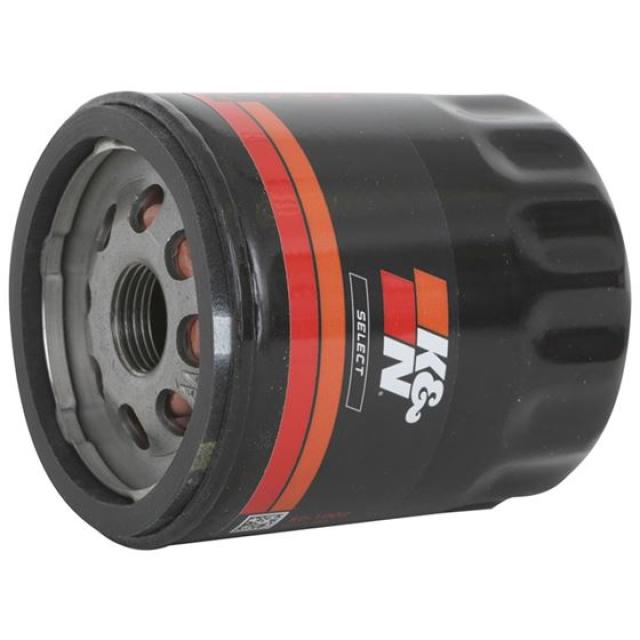oil_filter: (13, 81, 624, 543)
